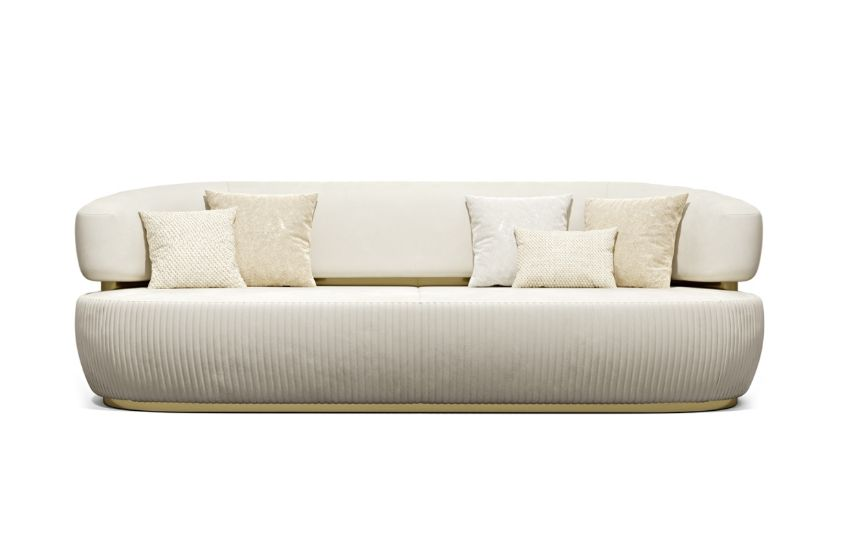3seatersofa: (76, 182, 762, 410)
backrest: (76, 181, 760, 285)
base: (104, 397, 736, 412)
pillow: (76, 182, 762, 404), (465, 193, 688, 288), (138, 190, 316, 287)
seat: (75, 279, 762, 399)
